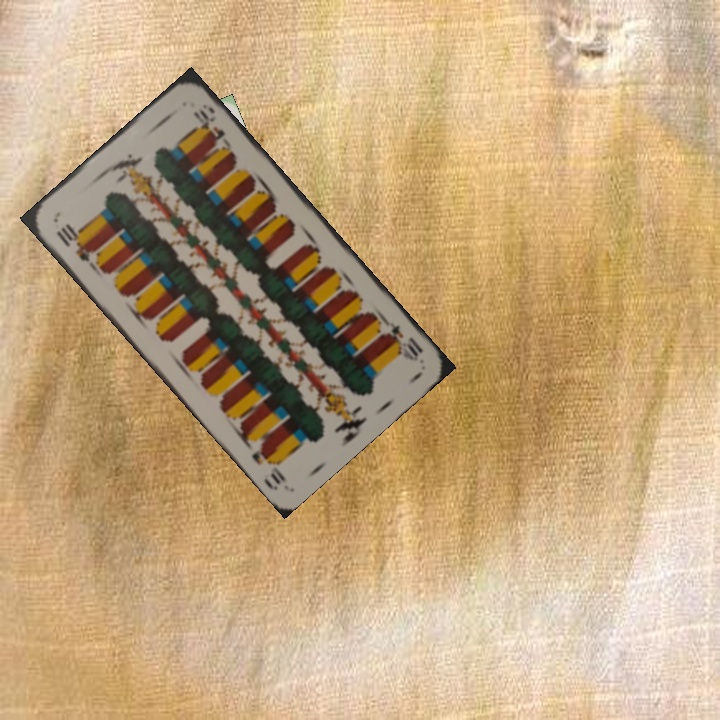E10: (380, 315, 426, 364), (51, 219, 95, 264)
